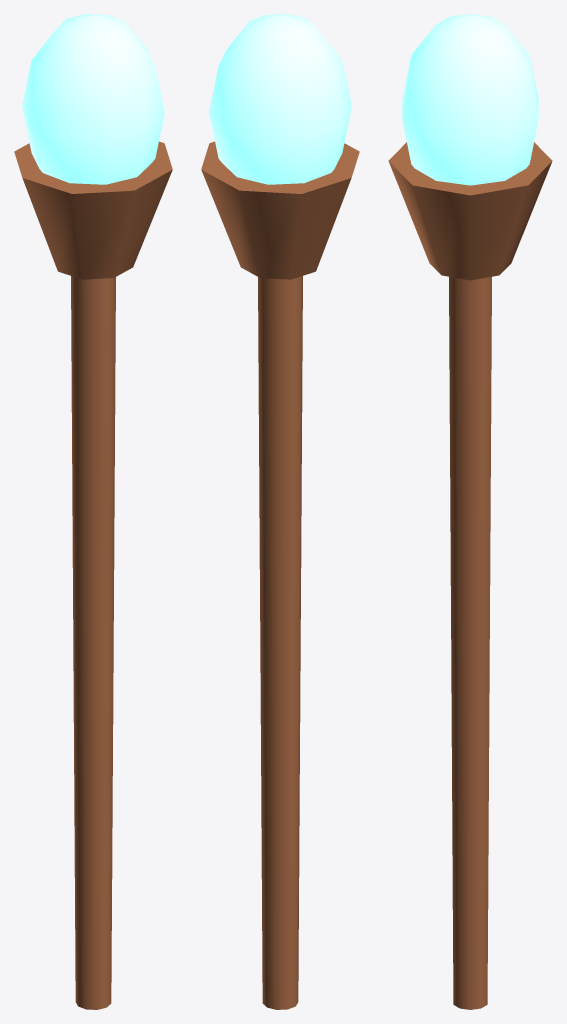
Rendered from weapon_staff.glb.
The picture shows the model from 3 angles, left to right: view 1: azimuth 30°, elevation 25°; view 2: azimuth 150°, elevation 25°; view 3: azimuth 270°, elevation 25°; orthographic projection.
Visible parts, largest first — view 1: staff_shaft, staff_gem; view 2: staff_shaft, staff_gem; view 3: staff_shaft, staff_gem.
Part boxes in pixels (x1,y1,x2,y2): staff_shaft: (14, 141, 172, 1009); staff_gem: (22, 14, 164, 184); staff_shaft: (201, 141, 359, 1009); staff_gem: (209, 14, 351, 184); staff_shaft: (388, 142, 552, 1009); staff_gem: (402, 14, 538, 185).
Bounding box in the file's own units: 0.32 × 2.12 × 0.32.
